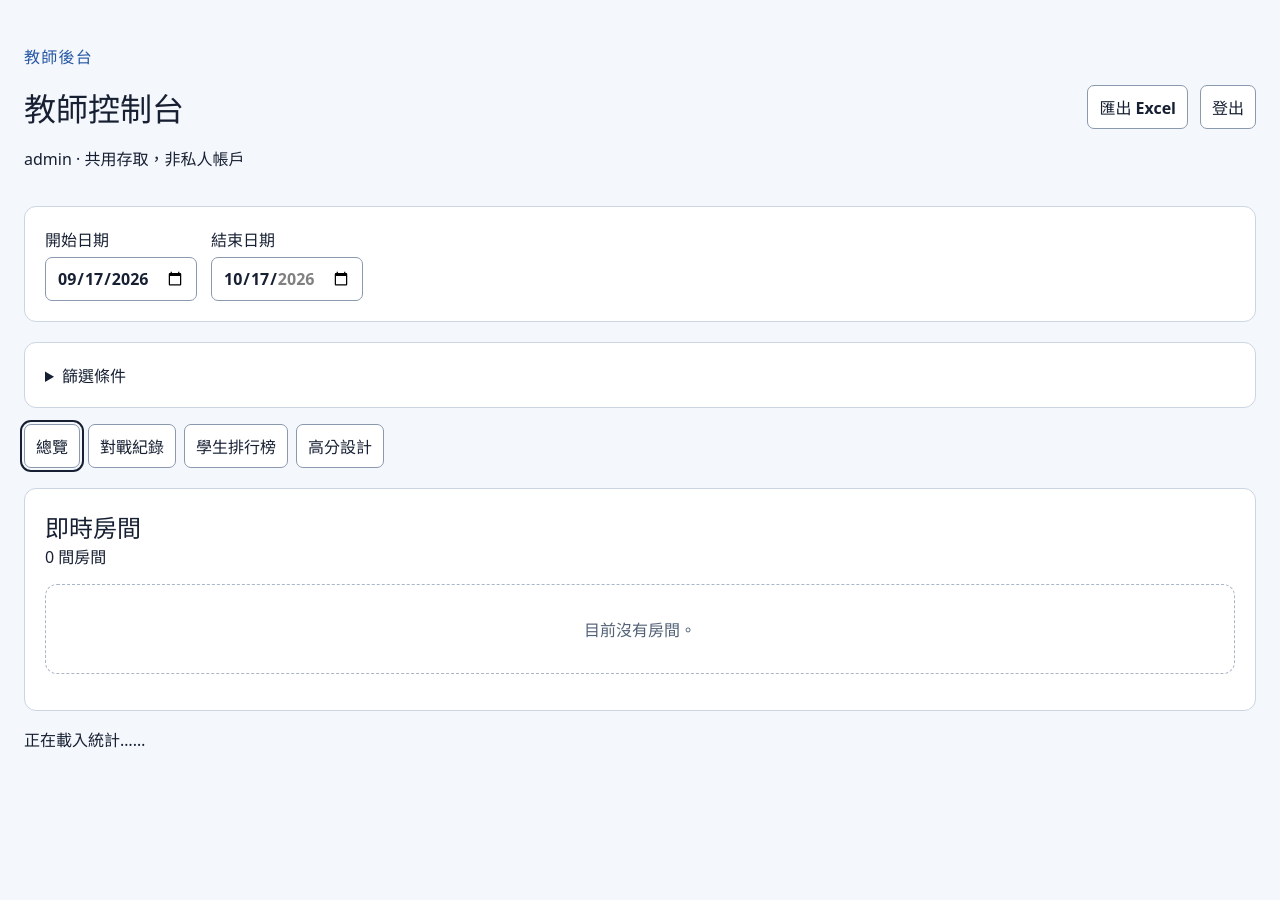
Test case: runtime-validates authoritative analytics and records DTOs
Check: the heading "教師控制台" is shown, box 24,87 -> 184,130
Click the tab "對戰紀錄" at (132, 446), box 88,424 -> 176,468
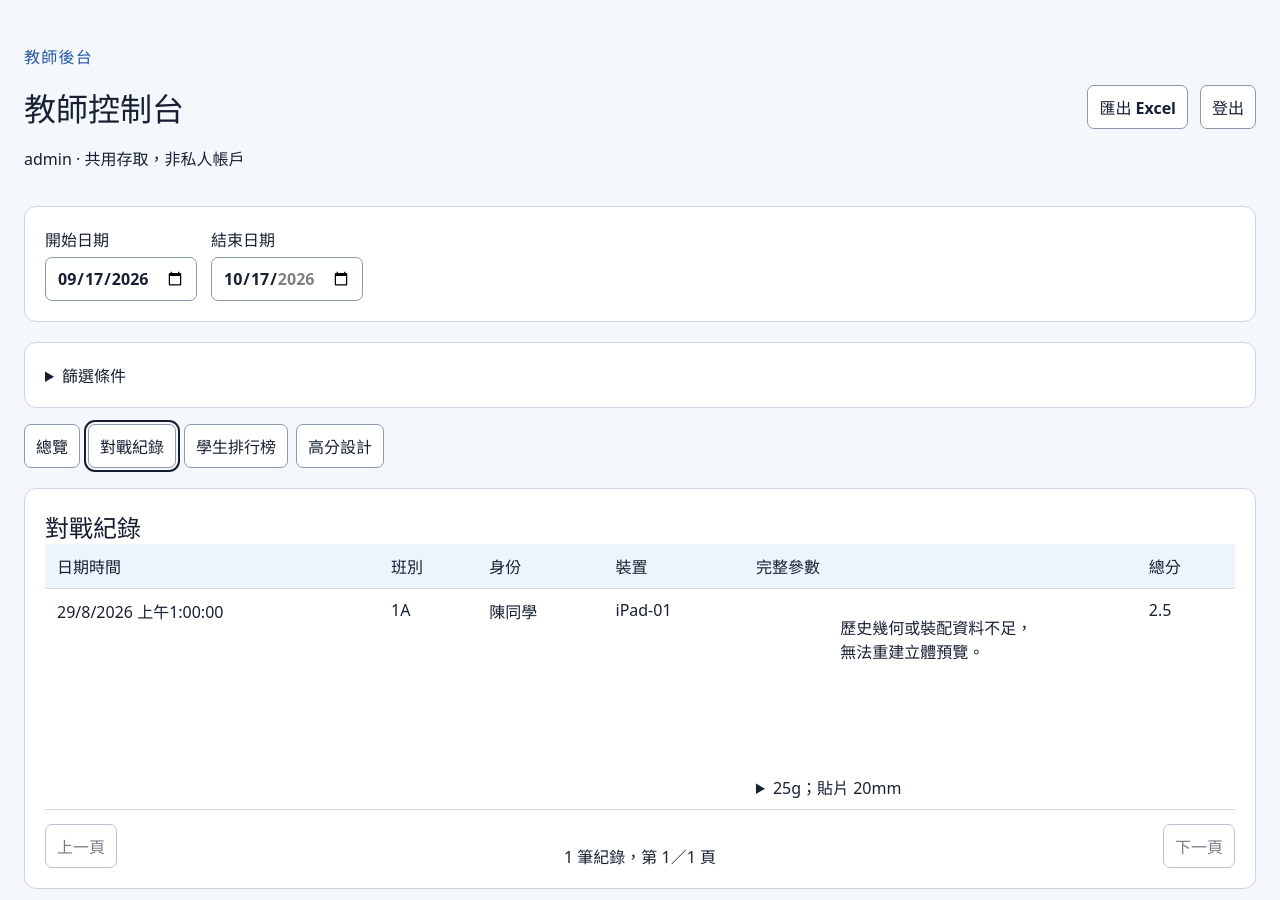
Check: the text "iPad-01" is shown, box 604,588 -> 744,810
Click the tab "總覽" at (52, 446), box 24,424 -> 80,468
(page scrolled)
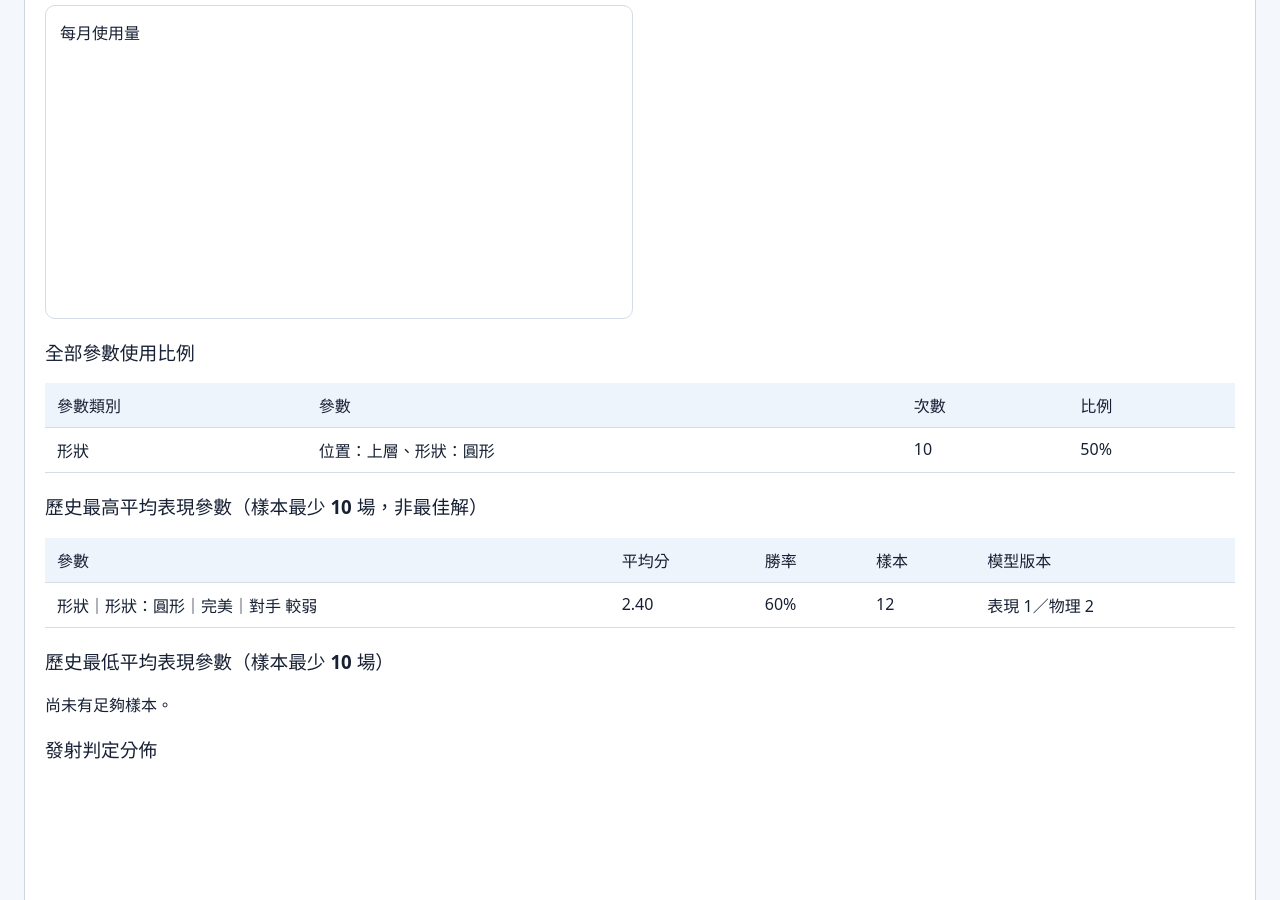
Check: the text "位置：上層、形狀：圓形" is shown, box 307,428 -> 902,473
